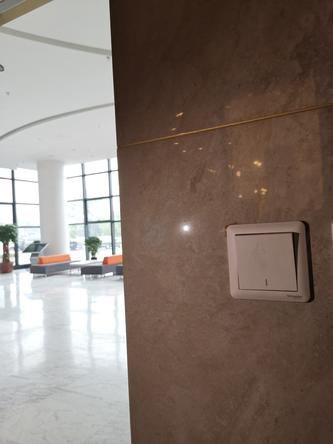switch: (232, 228, 304, 294)
